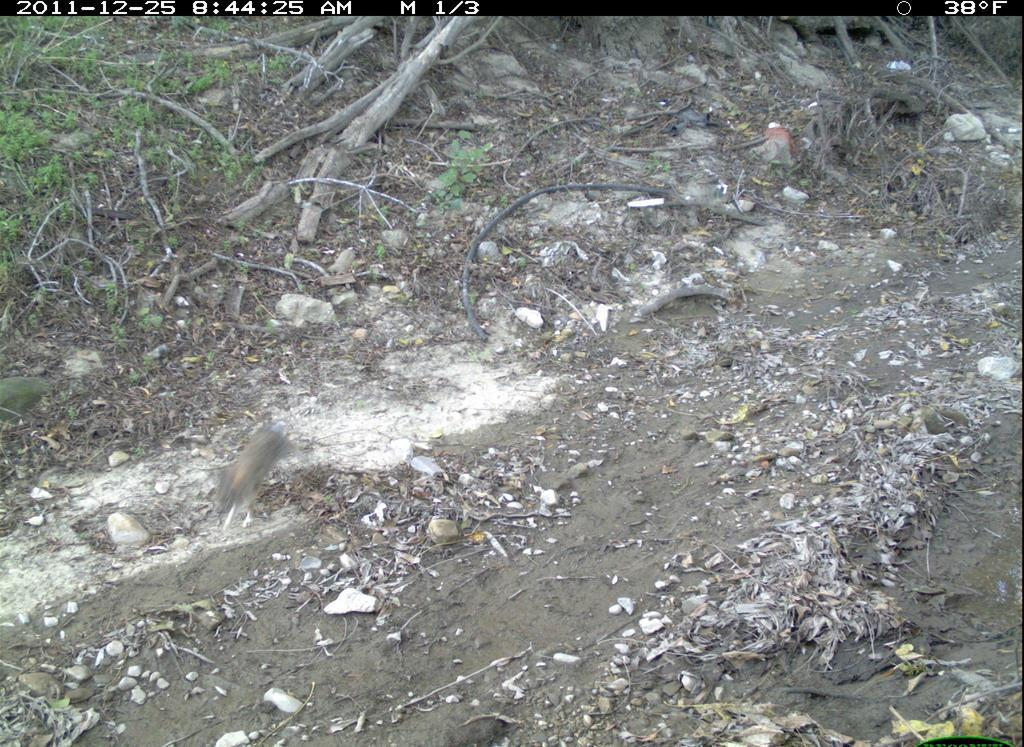rabbit: (198, 411, 317, 539)
